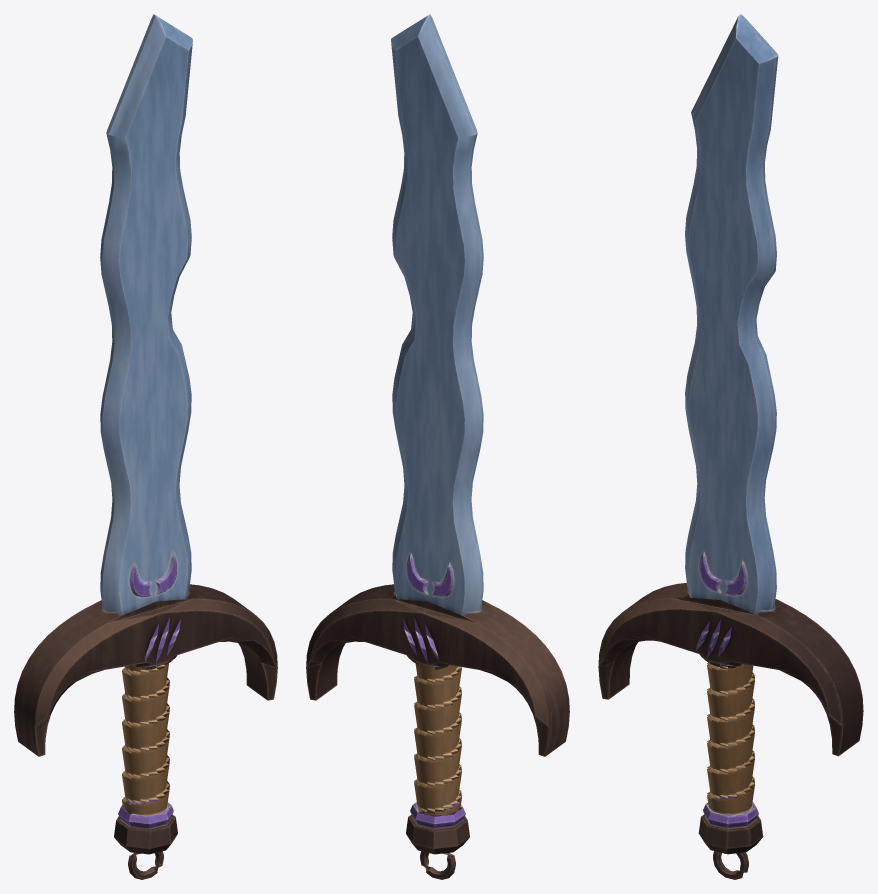
The model's file is Packbinder.fbx.
3 renders of one model, left to right at view 1: azimuth 30°, elevation 25°; view 2: azimuth 150°, elevation 25°; view 3: azimuth 330°, elevation 25°, orthographic.
Parts seen in each view (by area): view 1: Packbinder_Body; view 2: Packbinder_Body; view 3: Packbinder_Body.
Part boxes in pixels (bbox=[...]): Packbinder_Body: bbox=[14, 14, 277, 879]; Packbinder_Body: bbox=[306, 14, 569, 879]; Packbinder_Body: bbox=[598, 14, 863, 879].
Bounding box in the file's own units: 1.21 × 4.11 × 0.32.
